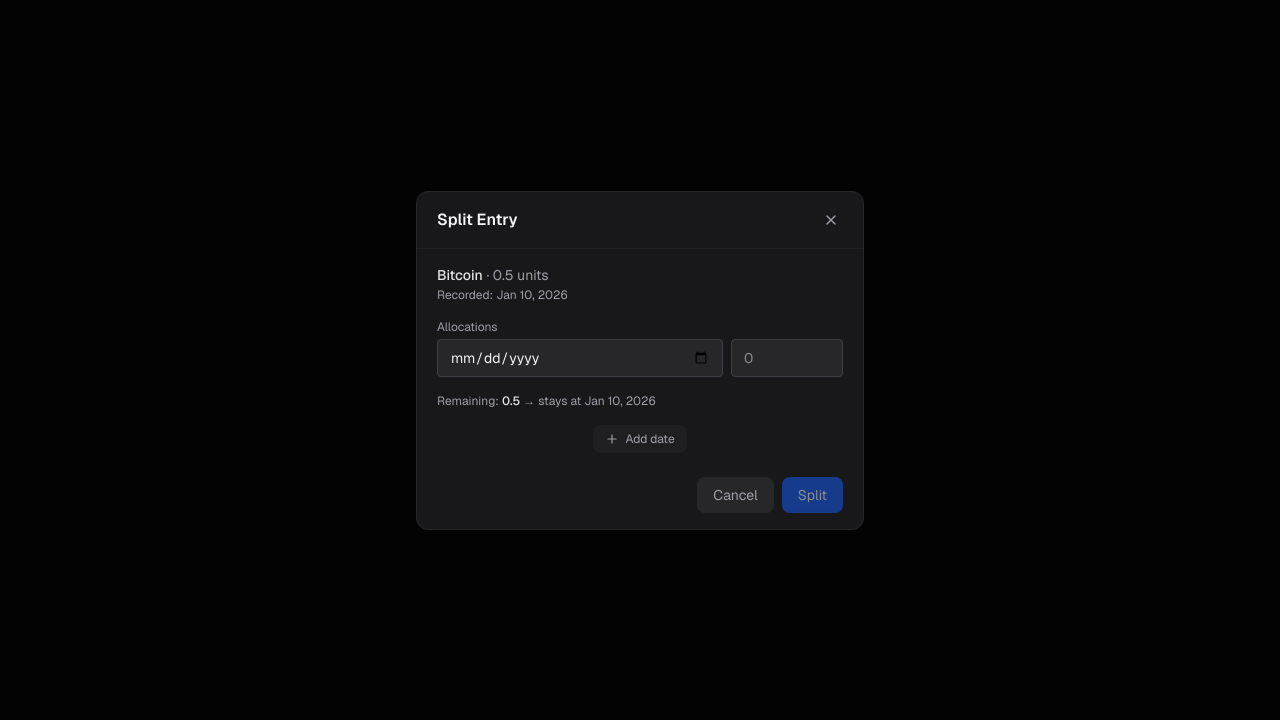
Test: SplitModal › shows fully allocated indicator when all quantity is distributed
Type "0.5" into the number field named "Allocation 1 quantity" at (787, 358), box x1=731 y1=338 x2=843 y2=376
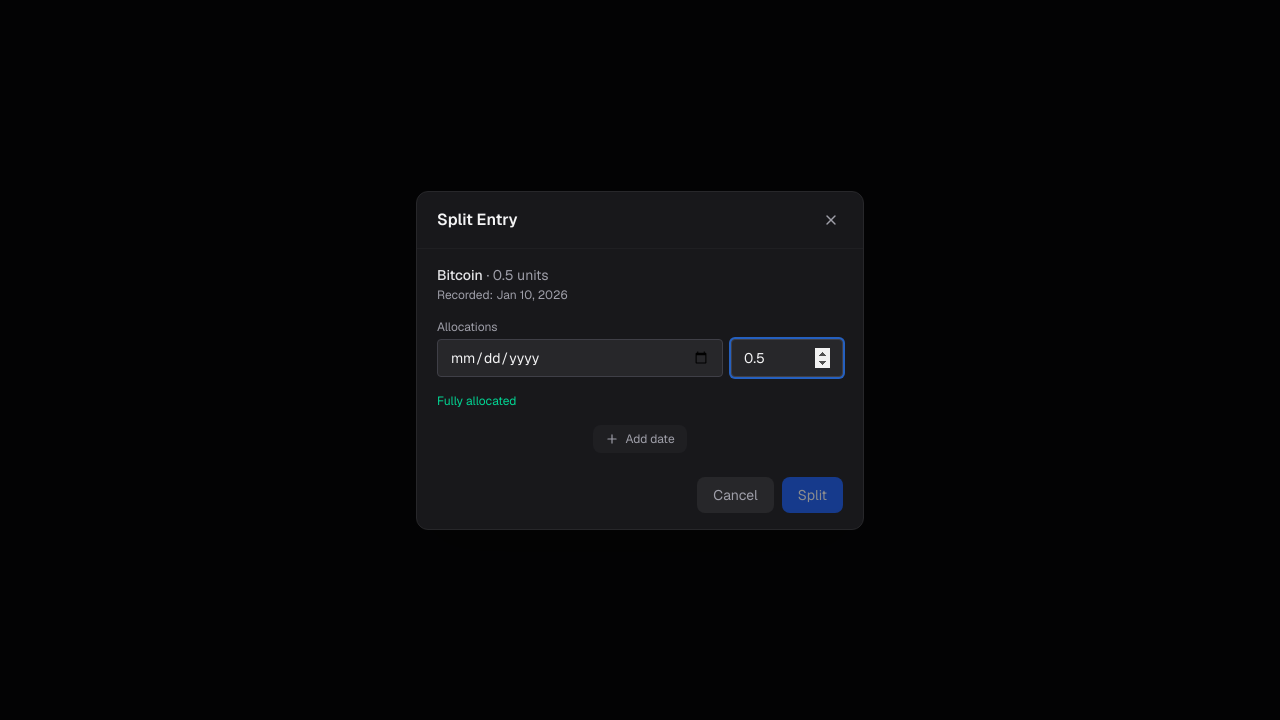
Result: the text "Fully allocated" is shown at x1=437 y1=392 x2=516 y2=408
